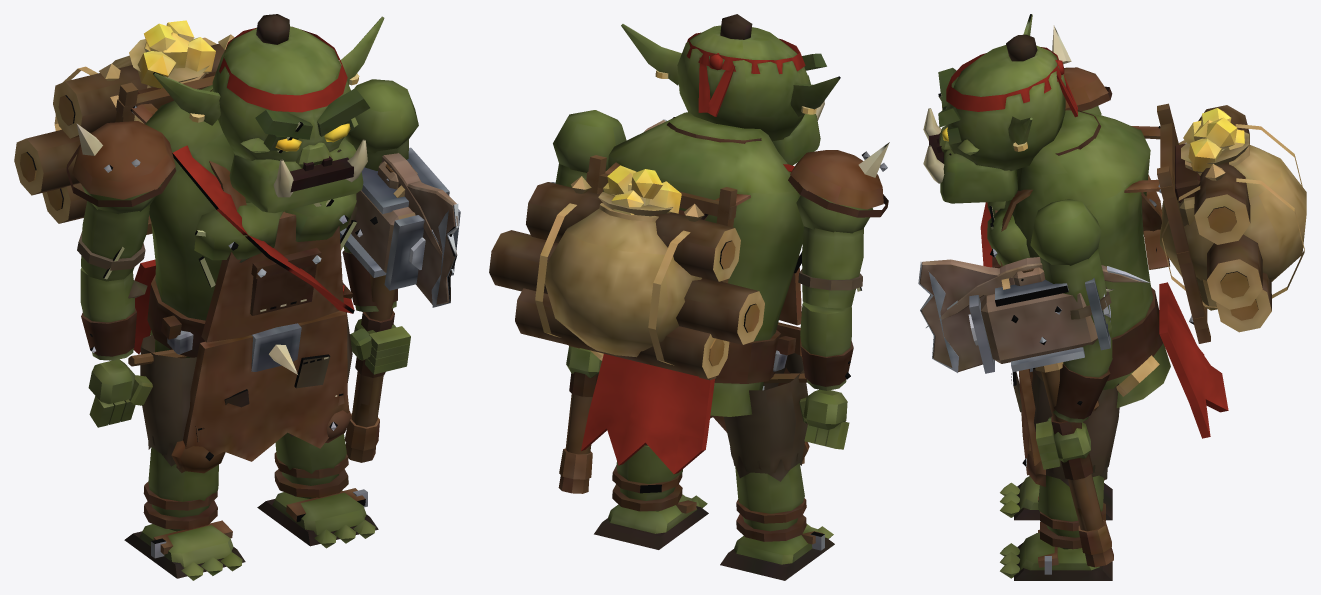
The model's file is peon.glb.
3 renders of one model, left to right at view 1: azimuth 30°, elevation 25°; view 2: azimuth 150°, elevation 25°; view 3: azimuth 270°, elevation 25°, orthographic. The views are drawn at different scales.
Parts seen in each view (by area): view 1: Torso, Head, ArmL, LegL, LegR, Hammer, WoodBundle, ArmR, Axe, GoldSack, Pickaxe, PackFrame; view 2: Torso, WoodBundle, GoldSack, ArmL, Head, LegL, LegR, ArmR, PackFrame, Hammer, Axe; view 3: Torso, Head, Hammer, ArmR, GoldSack, WoodBundle, LegR, Axe, PackFrame, Pickaxe, ArmL, LegL.
Boxes of the visible parts, <box> form: Torso: <box>128,85,357,472</box>; Head: <box>153,14,384,213</box>; ArmL: <box>66,121,176,427</box>; LegL: <box>124,335,245,580</box>; LegR: <box>257,312,378,548</box>; Hammer: <box>340,147,460,424</box>; WoodBundle: <box>14,34,234,223</box>; ArmR: <box>342,79,418,374</box>; Axe: <box>345,181,458,450</box>; GoldSack: <box>112,20,215,88</box>; Pickaxe: <box>345,153,454,462</box>; PackFrame: <box>115,71,215,234</box>; Torso: <box>581,112,807,474</box>; WoodBundle: <box>489,176,764,378</box>; GoldSack: <box>545,165,701,357</box>; ArmL: <box>788,142,889,449</box>; Head: <box>621,14,840,165</box>; LegL: <box>720,353,834,580</box>; LegR: <box>594,444,708,549</box>; ArmR: <box>553,110,626,377</box>; PackFrame: <box>568,155,750,380</box>; Hammer: <box>551,182,598,454</box>; Axe: <box>559,119,666,479</box>; Torso: <box>980,110,1228,475</box>; Head: <box>923,14,1077,203</box>; Hammer: <box>968,278,1110,531</box>; ArmR: <box>1030,199,1112,469</box>; GoldSack: <box>1156,108,1306,281</box>; WoodBundle: <box>1161,105,1304,332</box>; LegR: <box>1000,369,1119,580</box>; Axe: <box>918,259,1114,554</box>; PackFrame: <box>1124,103,1217,343</box>; Pickaxe: <box>926,257,1149,567</box>; ArmL: <box>1052,25,1112,114</box>; LegL: <box>1000,368,1112,520</box>.
Bounding box in the file's own units: 1.51 × 2.25 × 1.57.
2 materials, 2 textured.
